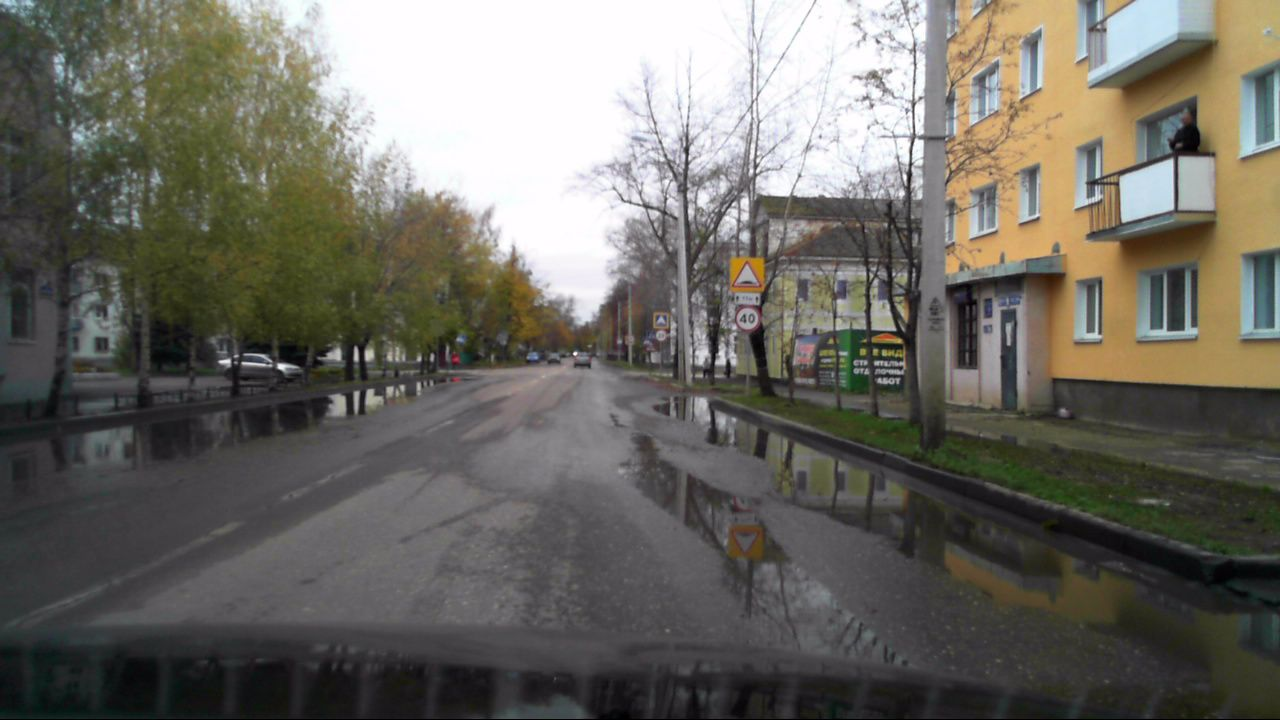speed_warning_40: (734, 306, 761, 332)
